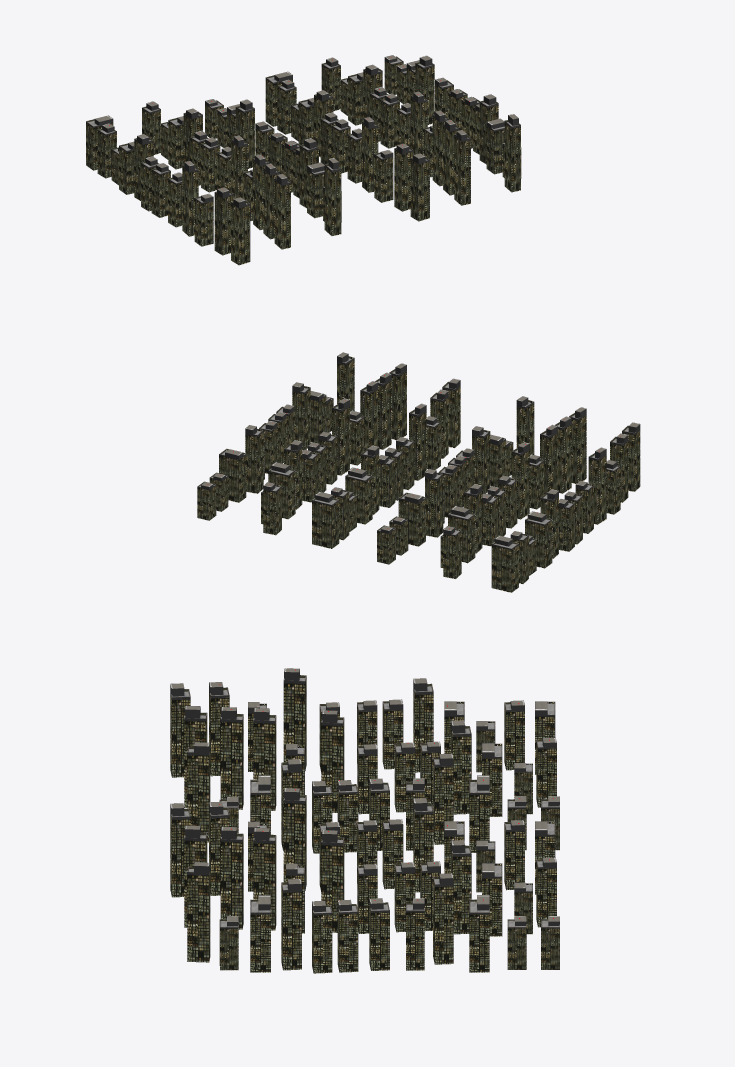
Rendered from city.glb.
3 views of the same model, one above another, from view 1: azimuth 30°, elevation 25°; view 2: azimuth 150°, elevation 25°; view 3: azimuth 270°, elevation 25° (orthographic). The views are drawn at different scales.
Parts seen in each view (by area): view 1: Cube_14, Cube_23, Cube_23_2, Cube_14_3, Cube_20_2, Cube_20, Cube_22, Cube_22_2, Cube_5_2, Cube_5_3, Cube_4_2, Cube_4_3 (+43 smaller); view 2: Cube_29, Cube_29_2, Cube_24_2, Cube_24, Cube_25_2, Cube_20_2, Cube_20, Cube_25, Cube_4, Cube_5_2, Cube_7_2, Cube_12_2 (+49 smaller); view 3: Cube_14_3, Cube_19_2, Cube_19, Cube_14, Cube_24_2, Cube_17_2, Cube_5_2, Cube_5_3, Cube_4, Cube_12_2, Cube_18_2, Cube_18 (+52 smaller).
Boxes of the visible parts, <box> form: Cube_14: <box>324,158,341,235</box>; Cube_23: <box>231,197,250,265</box>; Cube_23_2: <box>410,153,429,221</box>; Cube_14_3: <box>504,114,520,192</box>; Cube_20_2: <box>454,130,470,205</box>; Cube_20: <box>274,174,290,249</box>; Cube_22: <box>214,187,233,255</box>; Cube_22_2: <box>394,143,413,211</box>; Cube_5_2: <box>182,161,198,236</box>; Cube_5_3: <box>362,117,378,192</box>; Cube_4_2: <box>194,193,213,246</box>; Cube_4_3: <box>374,150,393,202</box>; Cube_29: <box>491,535,518,592</box>; Cube_29_2: <box>312,491,339,548</box>; Cube_24_2: <box>245,425,263,493</box>; Cube_24: <box>425,469,443,537</box>; Cube_25_2: <box>219,448,246,502</box>; Cube_20_2: <box>389,363,406,440</box>; Cube_20: <box>569,407,586,483</box>; Cube_25: <box>398,492,425,546</box>; Cube_4: <box>511,442,529,519</box>; Cube_5_2: <box>588,447,606,524</box>; Cube_7_2: <box>525,511,552,568</box>; Cube_12_2: <box>332,398,349,475</box>; Cube_14_3: <box>187,862,210,962</box>; Cube_19_2: <box>220,826,243,929</box>; Cube_19: <box>220,707,243,809</box>; Cube_14: <box>187,742,210,842</box>; Cube_24_2: <box>433,873,453,964</box>; Cube_17_2: <box>281,879,301,970</box>; Cube_5_2: <box>283,668,306,770</box>; Cube_5_3: <box>283,788,306,890</box>; Cube_4: <box>321,710,344,812</box>; Cube_12_2: <box>321,830,344,932</box>; Cube_18_2: <box>253,827,276,930</box>; Cube_18: <box>253,708,276,810</box>.
Size of the model in its own units: 74.73 by 11.29 by 74.73.
Materials: 5 (3 with a texture image).
